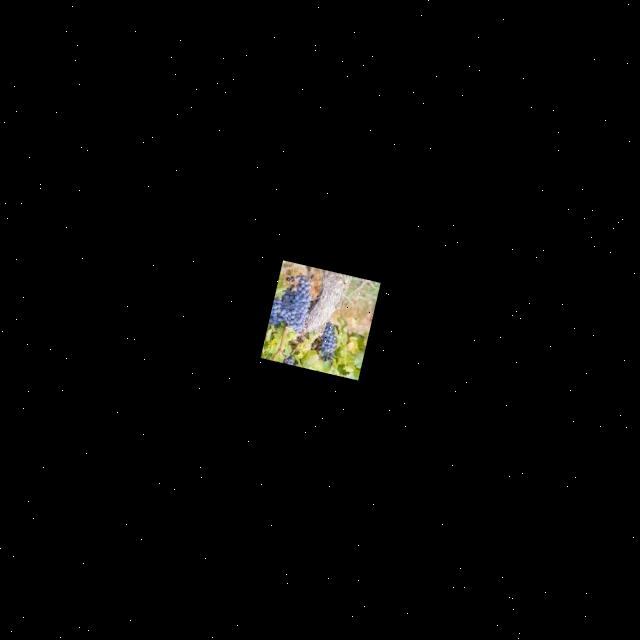grape: (267, 270, 316, 336), (314, 322, 340, 363)
